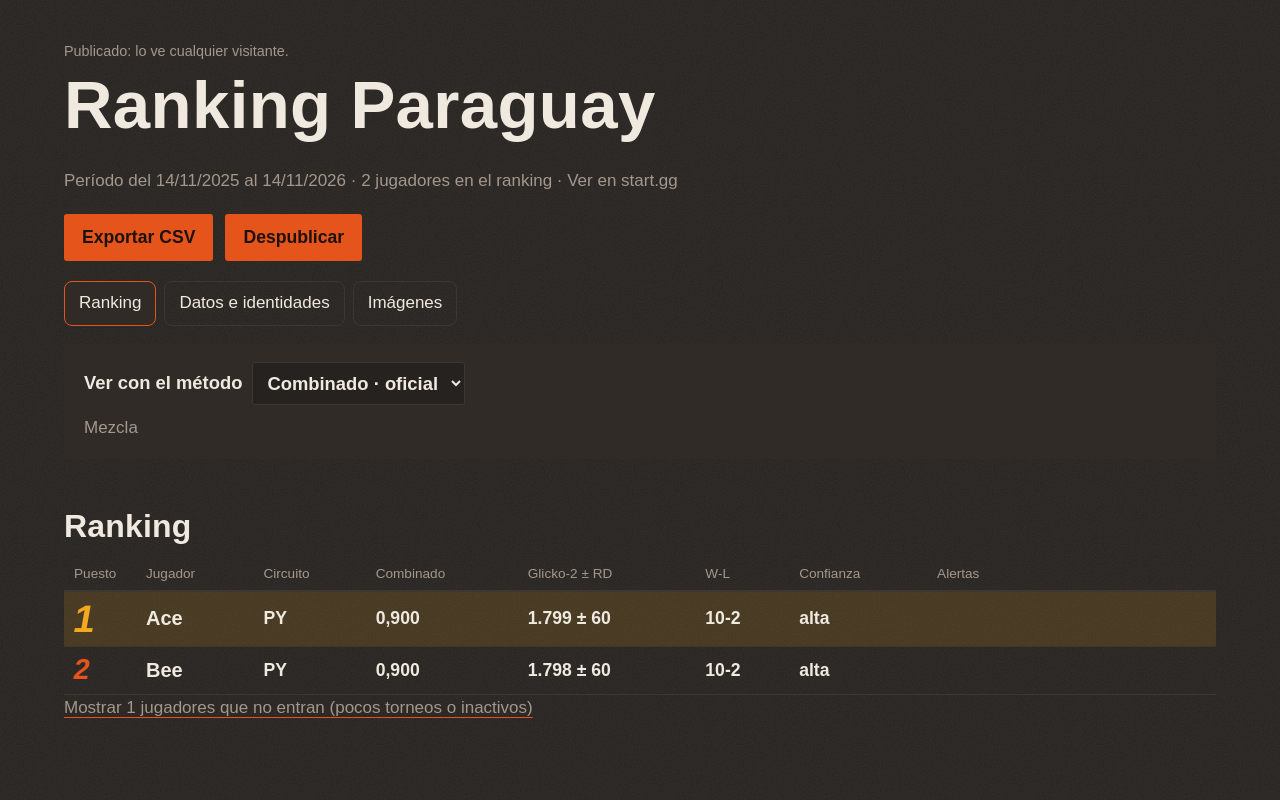
seeding board › shows rankings without manual moves and hides low-activity players
This screenshot has width=1280, height=800.
Expected: the heading "Ranking Paraguay" is shown, [64, 67, 656, 142]
Expected: the text "Publicado: lo ve cualquier visitante." is shown, [64, 43, 289, 59]
Click the tab "Imágenes" at {"x": 405, "y": 304}, box [353, 281, 457, 326]
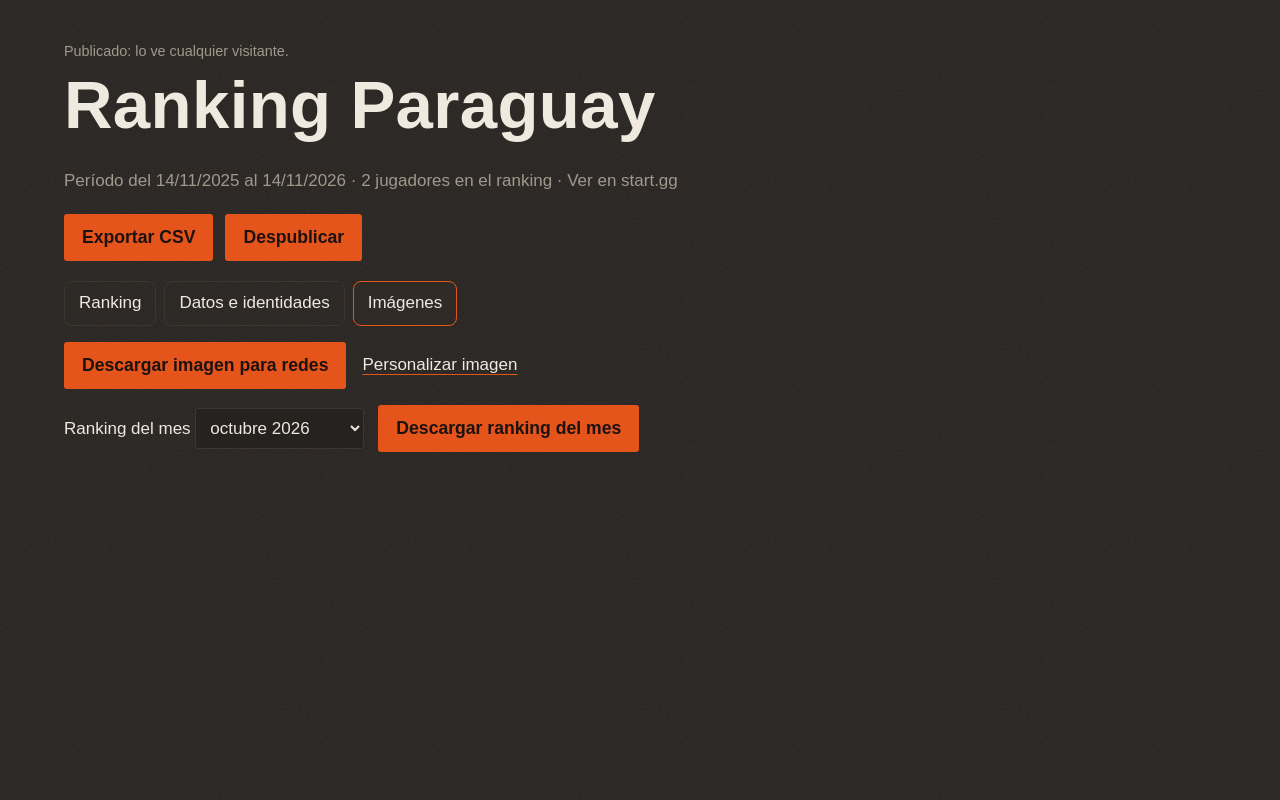
Click the tab "Ranking" at {"x": 110, "y": 304}, box [64, 281, 156, 326]
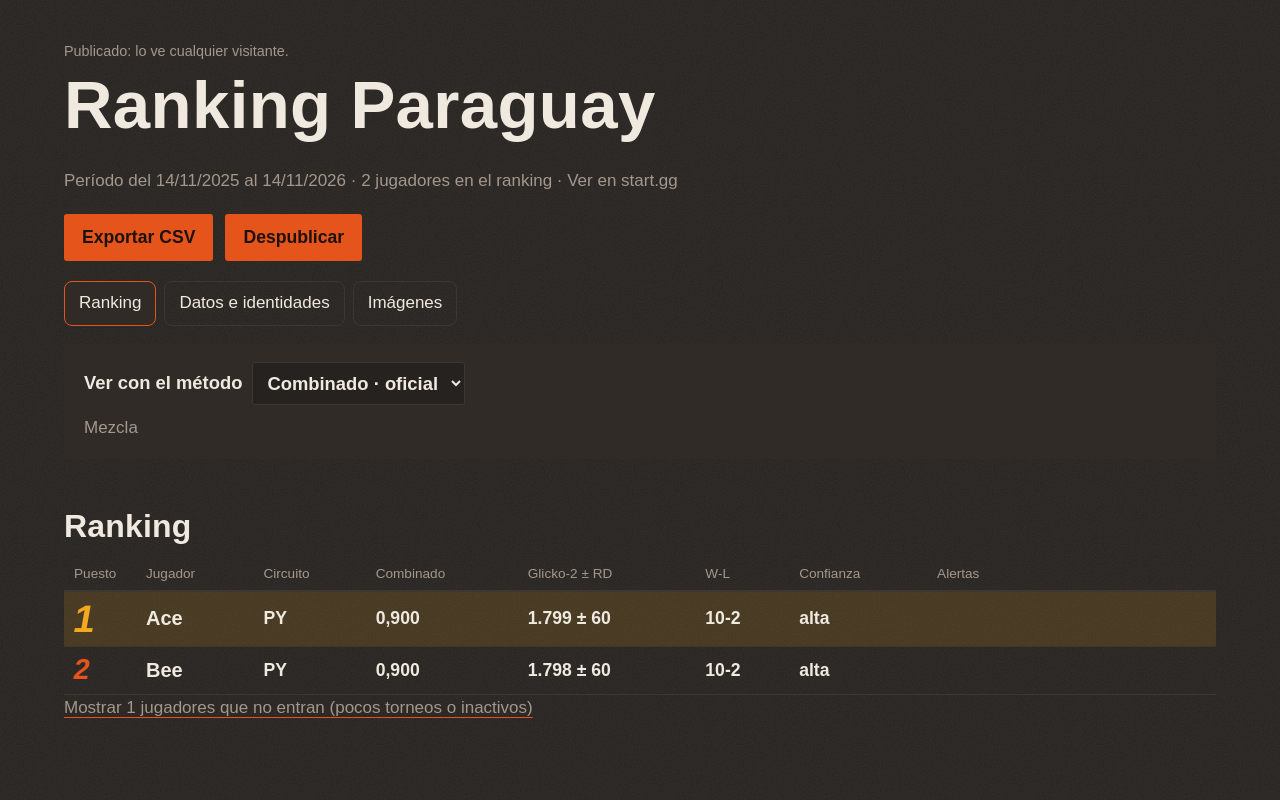
Click the button "Mostrar 1 jugadores que no entran" at {"x": 298, "y": 708}, box [64, 695, 533, 722]
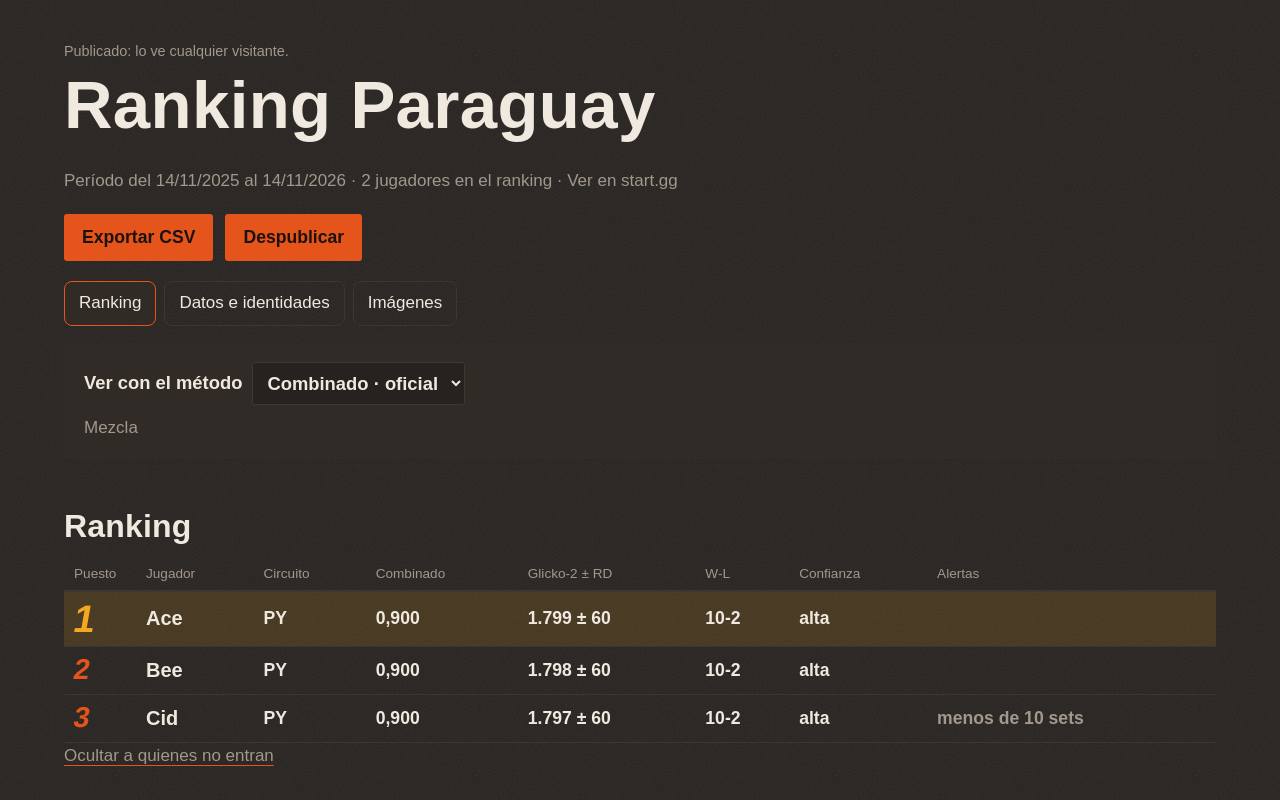
Expected: the button "Cid" is shown, [146, 703, 178, 734]
